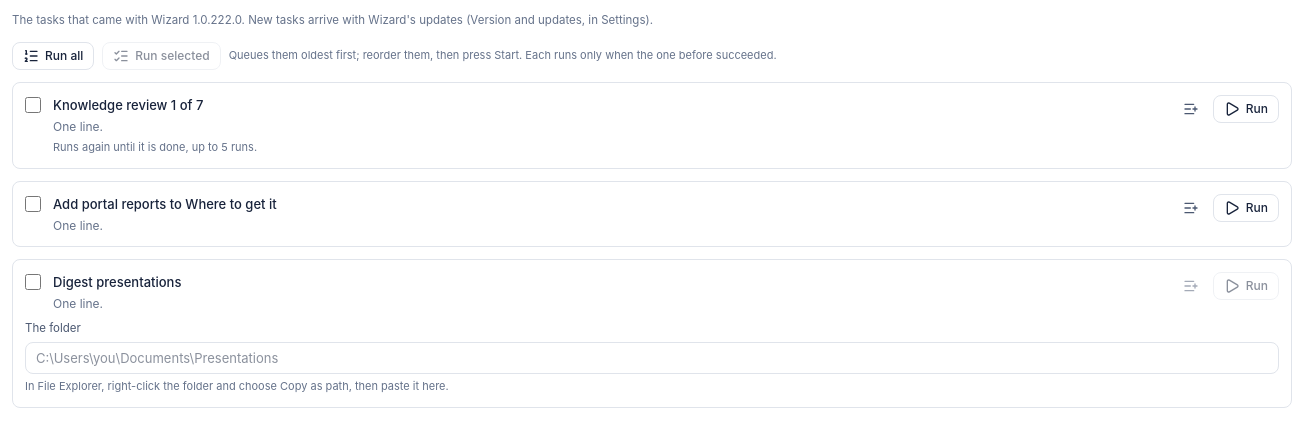
Settings → Tasks: the queue › keeps the ticks and runs the selected tasks with the paths typed
Later steps or results of the test are not shown.
Expected: the button with test id "queue-selected" is disabled, [102, 42, 221, 70]
Click the checkbox named "Select Add portal reports to Where to get it". click: (33, 204)
box: [25, 196, 41, 212]
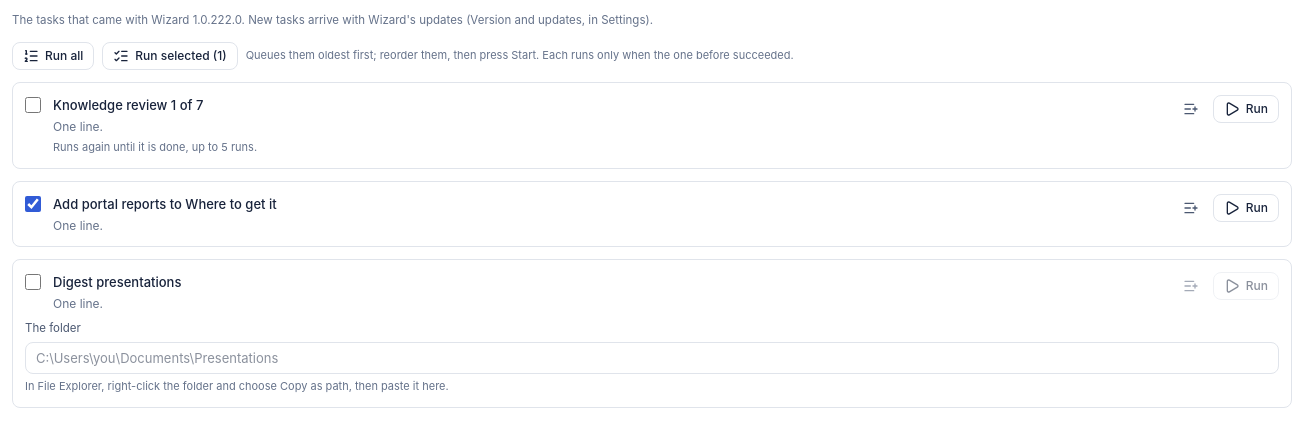
Click the checkbox named "Select Digest presentations". click: (33, 282)
box: [25, 274, 41, 290]
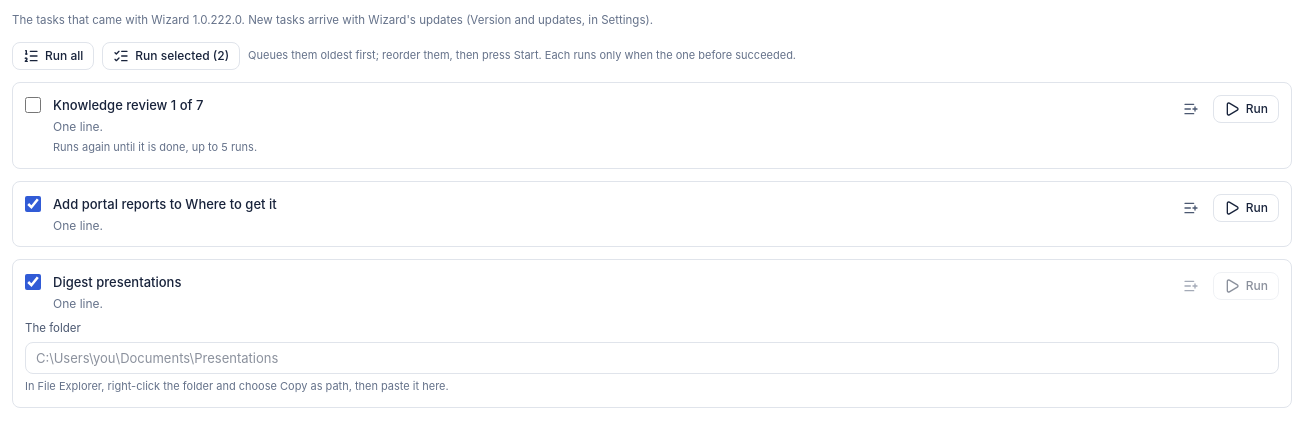
Expected: the button with test id "queue-selected" reads "Run selected (2)", [102, 42, 240, 70]
